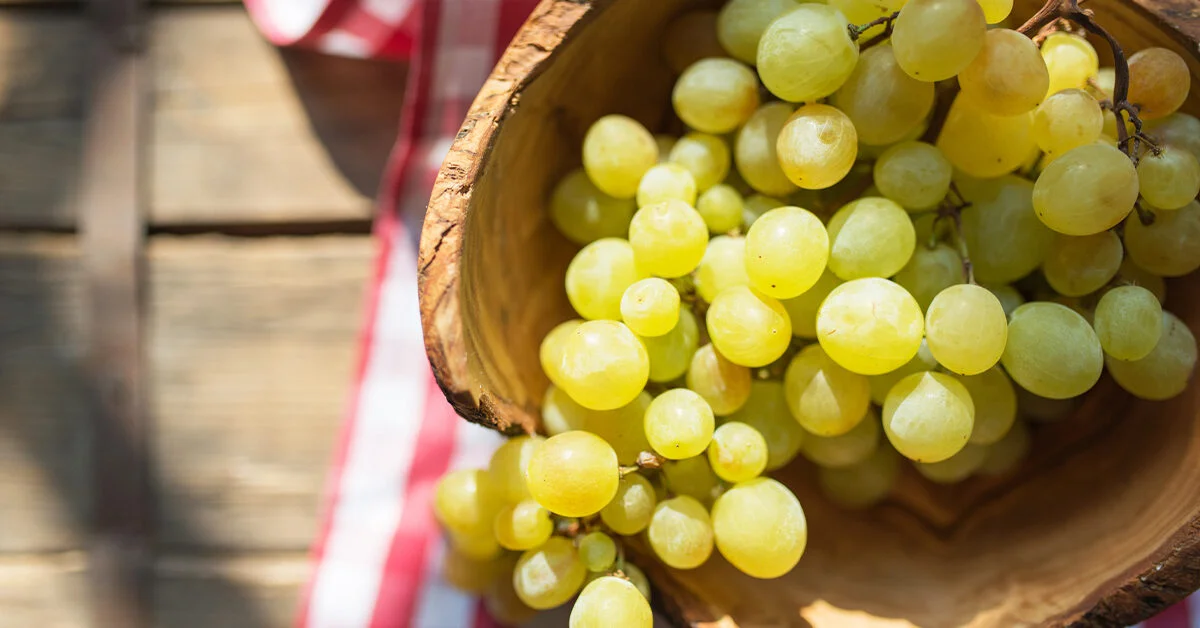Healthy: (999, 299, 1107, 398), (815, 278, 924, 376), (753, 6, 855, 101), (1036, 146, 1141, 237), (844, 43, 938, 142), (954, 176, 1042, 279), (715, 479, 810, 574), (1105, 310, 1197, 405), (880, 371, 974, 463), (946, 88, 1042, 175), (820, 200, 920, 281), (528, 428, 620, 516), (665, 54, 762, 135), (561, 319, 647, 410), (954, 25, 1049, 107), (776, 105, 861, 192), (893, 0, 985, 78), (747, 209, 828, 296), (788, 346, 866, 434), (929, 284, 1005, 374), (626, 202, 711, 277), (1040, 224, 1125, 299), (702, 292, 790, 364), (585, 110, 663, 190), (1128, 189, 1200, 272), (568, 240, 643, 315), (735, 101, 796, 190), (869, 141, 950, 207), (638, 305, 702, 385), (1097, 285, 1162, 363), (1124, 47, 1195, 117), (709, 0, 808, 49), (569, 572, 654, 628), (513, 537, 582, 605), (644, 387, 712, 456), (705, 240, 777, 303), (549, 176, 623, 234), (653, 496, 713, 565), (1040, 87, 1108, 146), (689, 346, 749, 412), (663, 135, 733, 189), (1039, 27, 1103, 85), (1144, 134, 1200, 200), (708, 421, 773, 477), (623, 279, 680, 336), (496, 504, 555, 547), (609, 473, 651, 533), (493, 436, 534, 497), (637, 160, 694, 200), (575, 528, 620, 568)
